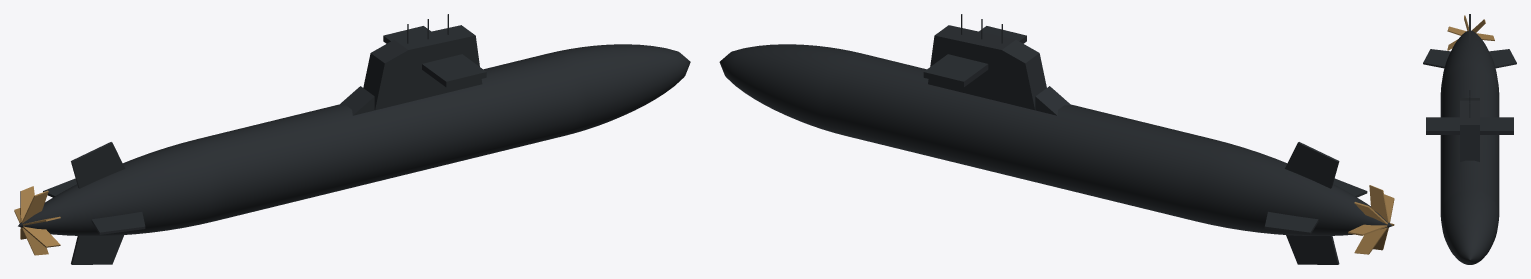
File: pla_ssk_type039a.glb
3 views of the same model, side by side, from view 1: azimuth 30°, elevation 25°; view 2: azimuth 150°, elevation 25°; view 3: azimuth 270°, elevation 25° (orthographic). The views are drawn at different scales.
Parts seen in each view (by area): view 1: rubber, bronze; view 2: rubber, bronze; view 3: rubber, bronze.
Part boxes in pixels (left/top/right/bottom): rubber: left=18, top=14, right=690, bottom=264; bronze: left=14, top=186, right=60, bottom=255; rubber: left=719, top=14, right=1392, bottom=264; bronze: left=1348, top=185, right=1394, bottom=254; rubber: left=1423, top=14, right=1516, bottom=264; bronze: left=1447, top=15, right=1494, bottom=50.
Bounding box in the file's own units: 10 × 2.38 × 1.73.
